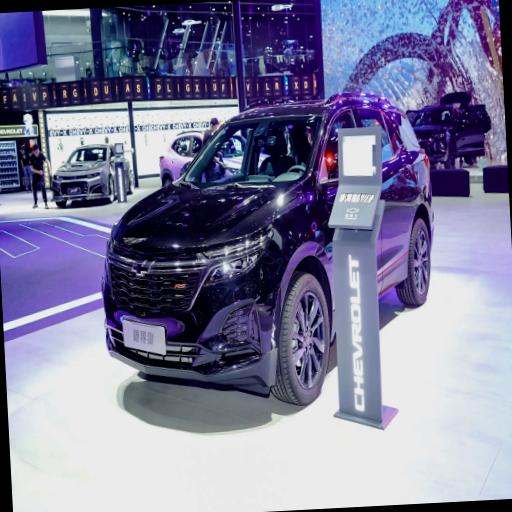Sedan-sDLz: (92, 84, 443, 419), (48, 135, 137, 208), (408, 92, 491, 168)
